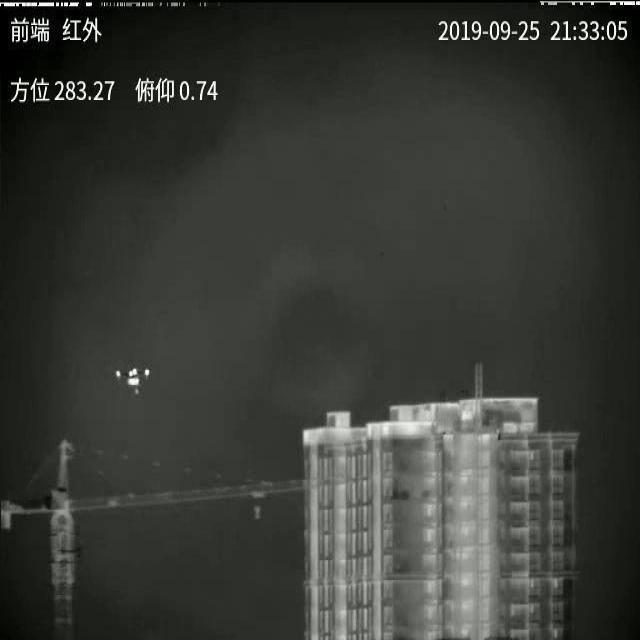drone: (115, 367, 151, 395)
